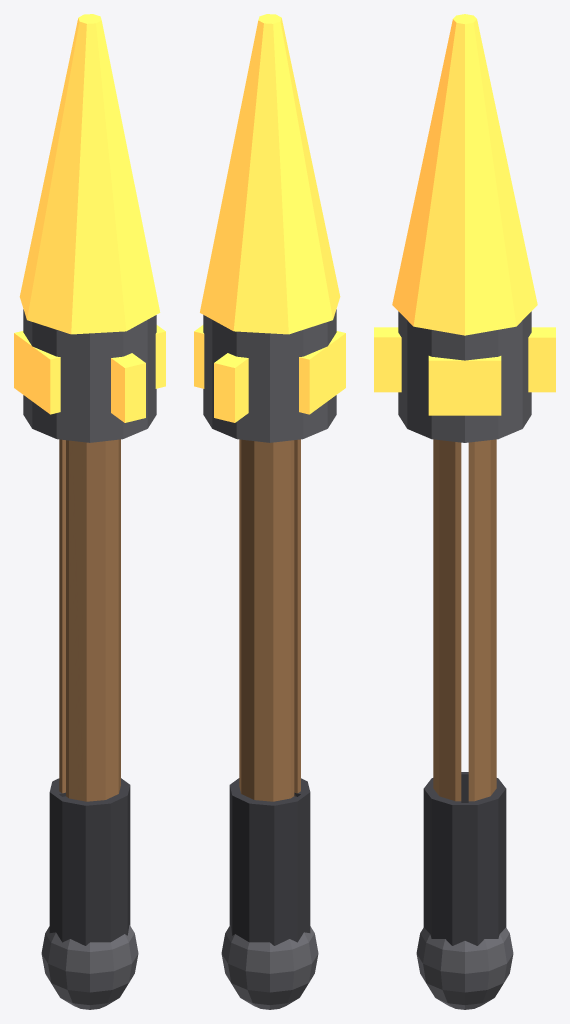
File: weapon-bruiser3.glb
3 renders of one model, left to right at view 1: azimuth 30°, elevation 25°; view 2: azimuth 150°, elevation 25°; view 3: azimuth 270°, elevation 25°, orthographic.
Visible parts, largest first — view 1: brand, shaft, grip, collar, pommel, collarvent2, collarvent3, collarvent0; view 2: brand, shaft, grip, collar, pommel, collarvent2, collarvent1, collarvent0; view 3: brand, shaft, grip, collar, pommel, collarvent0, collarvent1, collarvent3.
Part boxes in pixels (x1,y1,x2,y2): brand: [19, 14, 160, 334]; shaft: [59, 439, 120, 801]; grip: [49, 778, 130, 945]; collar: [23, 309, 156, 442]; pommel: [41, 925, 138, 1009]; collarvent2: [14, 331, 60, 414]; collarvent3: [111, 353, 145, 422]; collarvent0: [155, 325, 165, 388]; brand: [200, 14, 340, 334]; shaft: [239, 439, 300, 801]; grip: [229, 778, 310, 945]; collar: [203, 309, 336, 442]; pommel: [221, 925, 318, 1009]; collarvent2: [299, 331, 345, 414]; collarvent1: [214, 353, 248, 422]; collarvent0: [194, 325, 204, 388]; brand: [392, 14, 537, 335]; shaft: [433, 439, 496, 801]; grip: [423, 772, 506, 945]; collar: [398, 311, 531, 442]; pommel: [416, 927, 513, 1009]; collarvent0: [428, 356, 501, 415]; collarvent1: [528, 327, 555, 392]; collarvent3: [374, 327, 401, 392].
Size of the model in its own units: 0.12 by 0.898 by 0.15.
